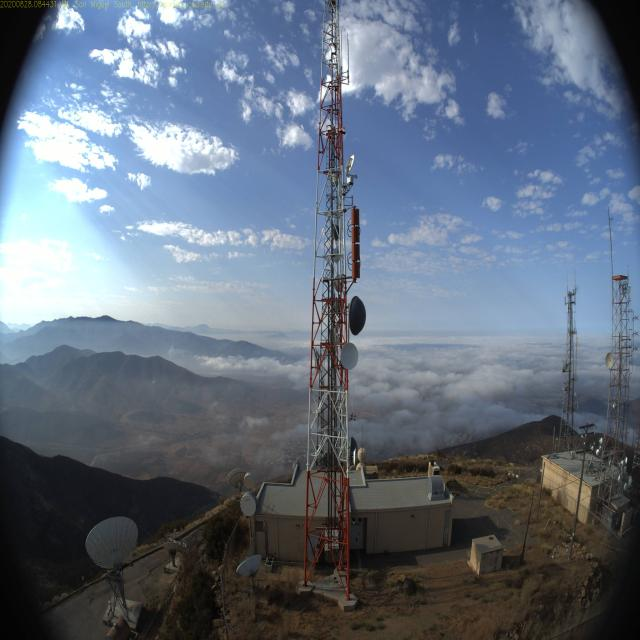smoke: (161, 336, 197, 368)
